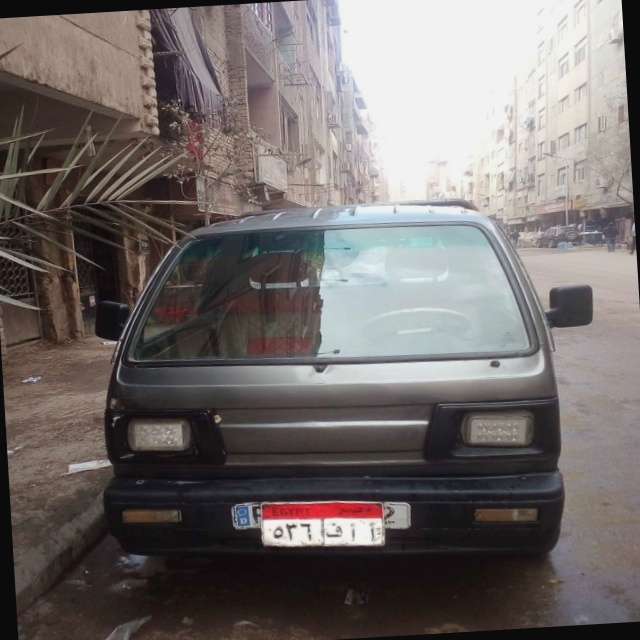License Plate: (259, 496, 387, 555)
